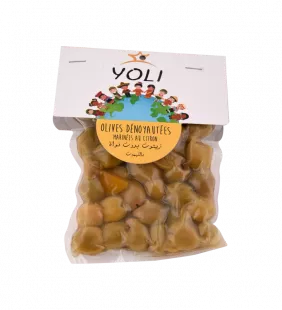YOLI: (44, 36, 237, 269)
